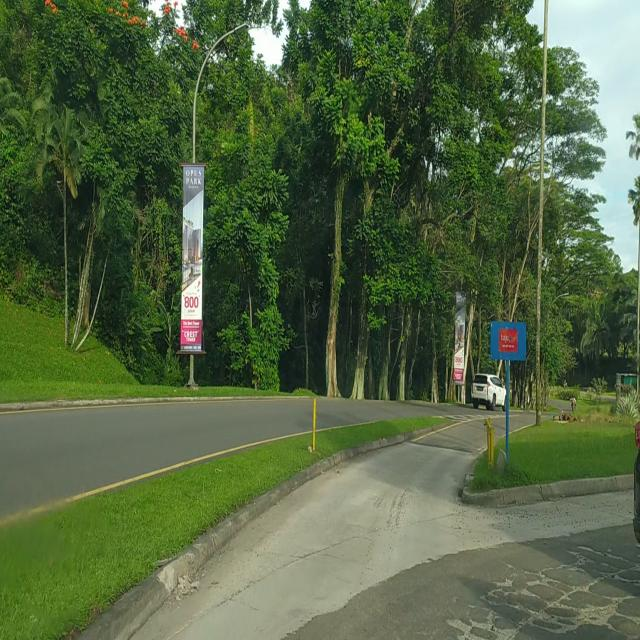Drain Hole: (445, 551, 640, 640)
